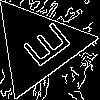E: (13, 21, 73, 75)
